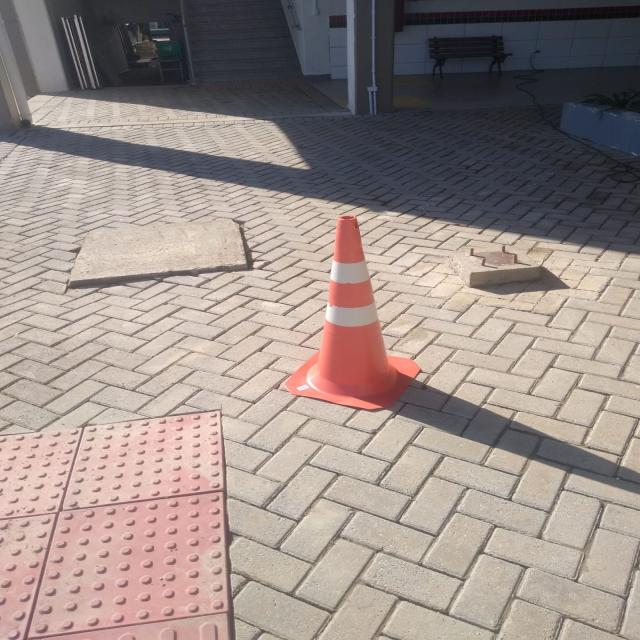cone: (282, 214, 424, 412)
